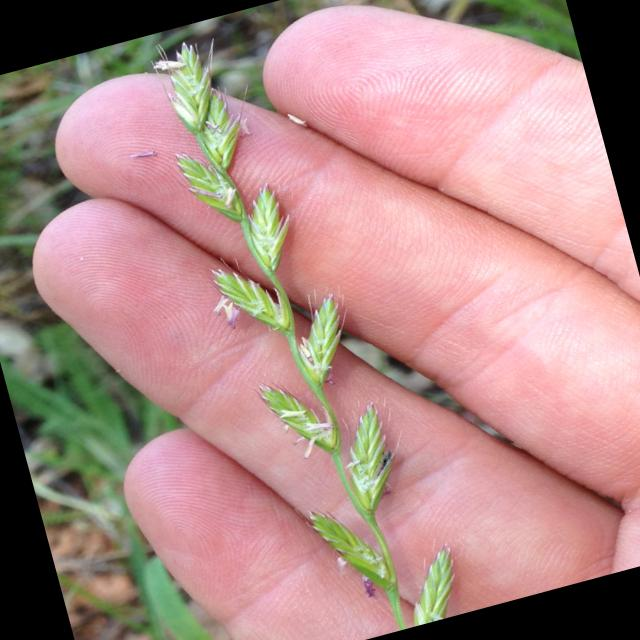Lolium: (138, 4, 469, 640)
